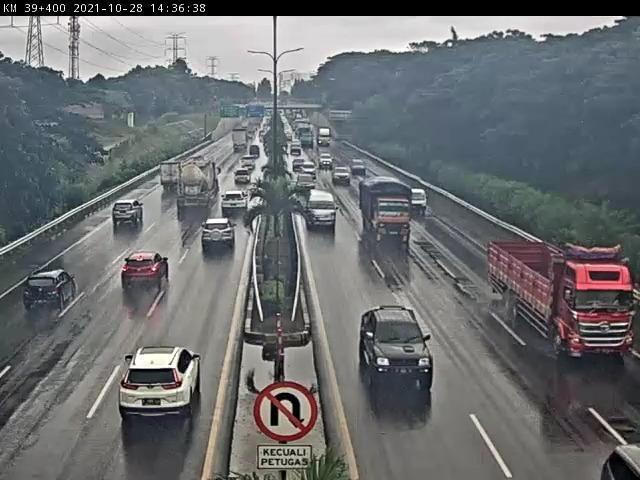car: (361, 308, 438, 396), (132, 346, 202, 421), (307, 190, 343, 242), (33, 271, 77, 309), (128, 255, 171, 285), (203, 218, 236, 252), (114, 201, 145, 237), (223, 188, 252, 218), (338, 166, 358, 201), (297, 175, 318, 200), (411, 188, 427, 215), (240, 166, 250, 189)
truck: (500, 233, 634, 373), (369, 181, 410, 253), (185, 165, 217, 210), (160, 161, 179, 194)
